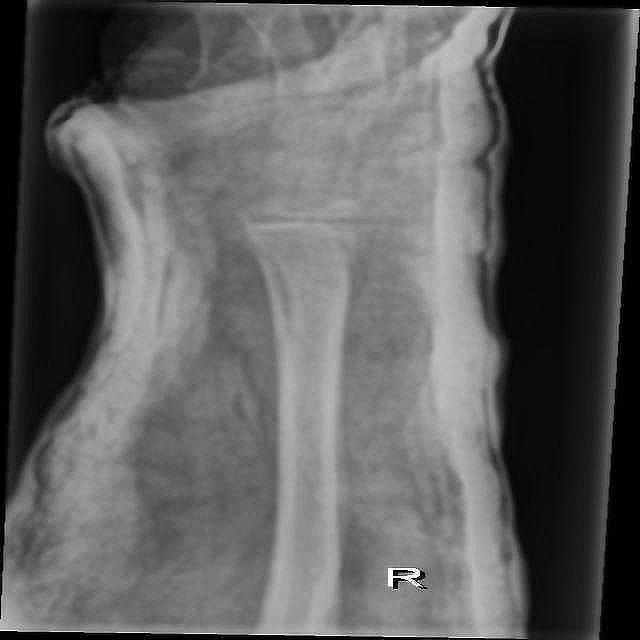bone: (218, 218, 369, 260)
